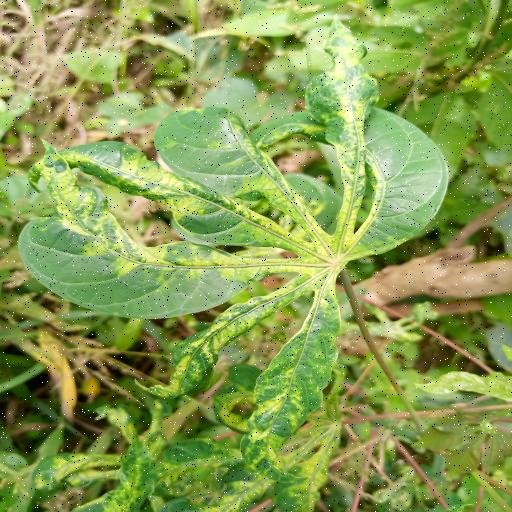Cassava_Mosaic: (15, 16, 455, 482)
